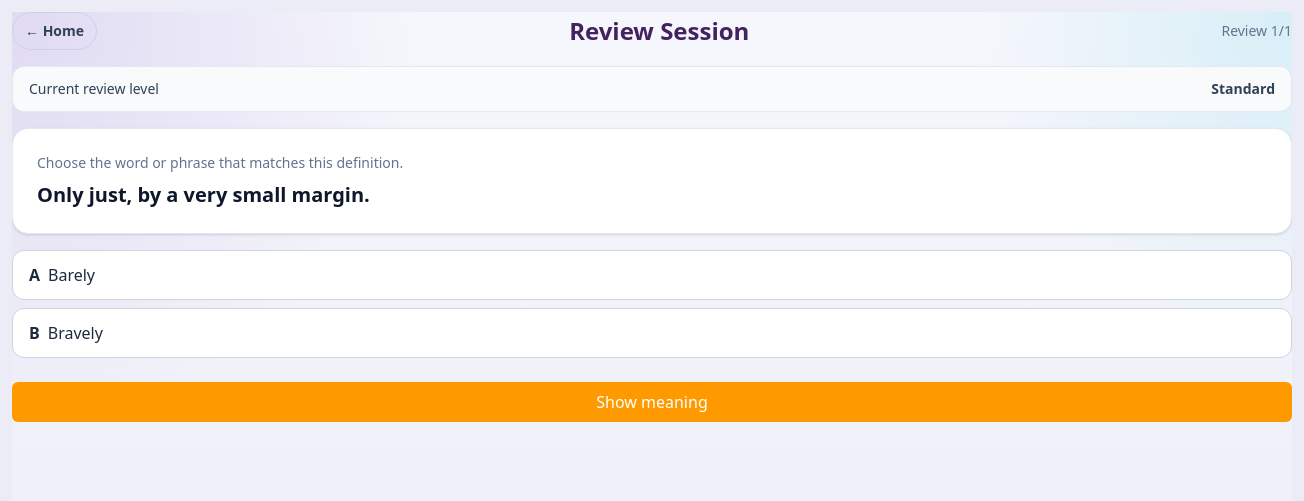
ReviewPage › shows an inline error instead of crashing when show meaning submit fails
Step 1. Click the button "Show meaning" → coordinates (652, 402), box [12,382,1292,422]
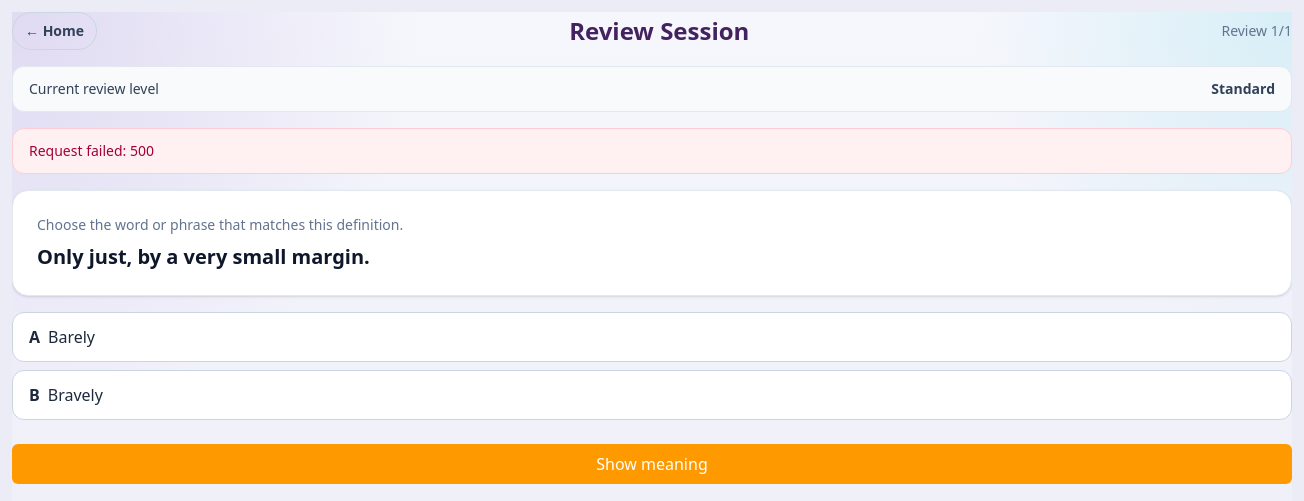
Expected: the message reads "Request failed: 500", [29,141,154,160]
